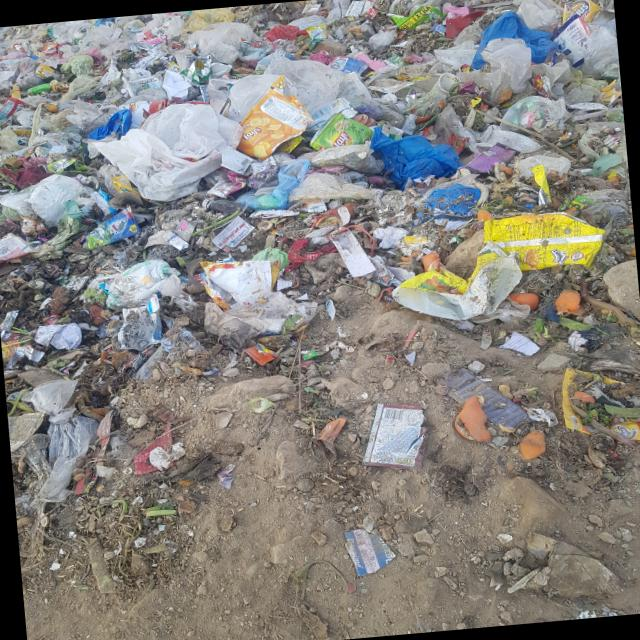electronic: (389, 250, 530, 326), (477, 206, 608, 276), (232, 90, 315, 160), (310, 106, 382, 156), (82, 210, 148, 252), (0, 234, 37, 269)
general: (86, 115, 230, 208), (15, 372, 123, 484), (364, 112, 476, 186), (0, 162, 104, 220)
